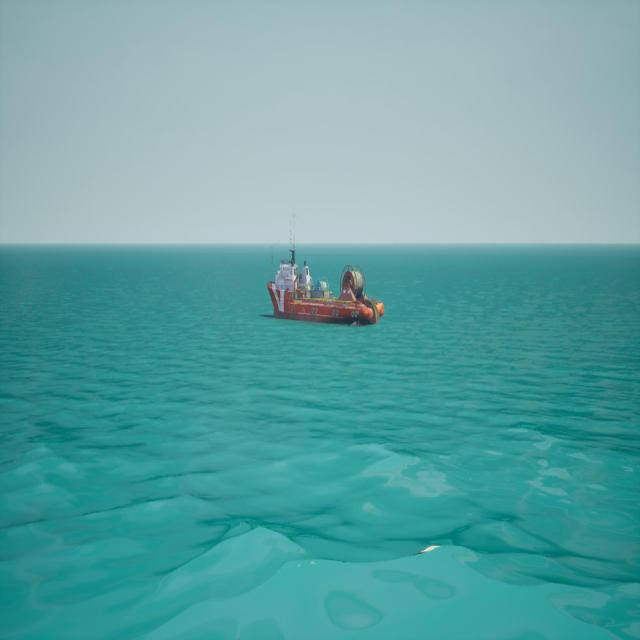tug boat: (262, 217, 386, 329)
